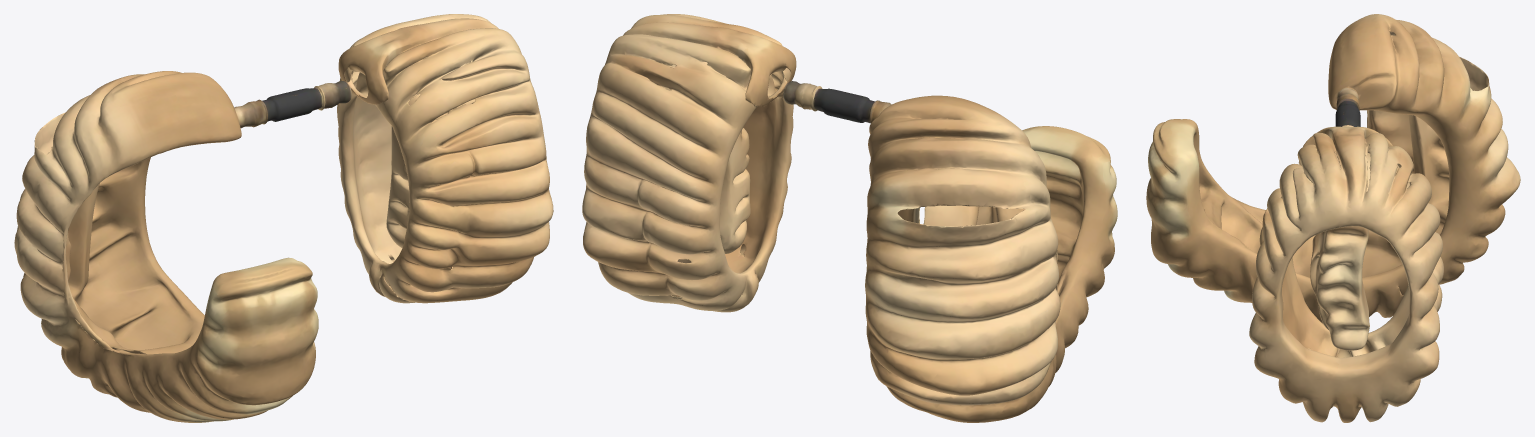
File: boldhoops.glb
3 renders of one model, left to right at view 1: azimuth 30°, elevation 25°; view 2: azimuth 150°, elevation 25°; view 3: azimuth 270°, elevation 25°, orthographic. The views are drawn at different scales.
Parts seen in each view (by area): view 1: geometry_0; view 2: geometry_0; view 3: geometry_0.
Part boxes in pixels (x1,y1,x2,y2): geometry_0: (14,14,553,422); geometry_0: (582,14,1117,422); geometry_0: (1146,14,1520,422).
Size of the model in its own units: 0.9905 by 0.6475 by 0.7589.
1 material, 1 textured.
